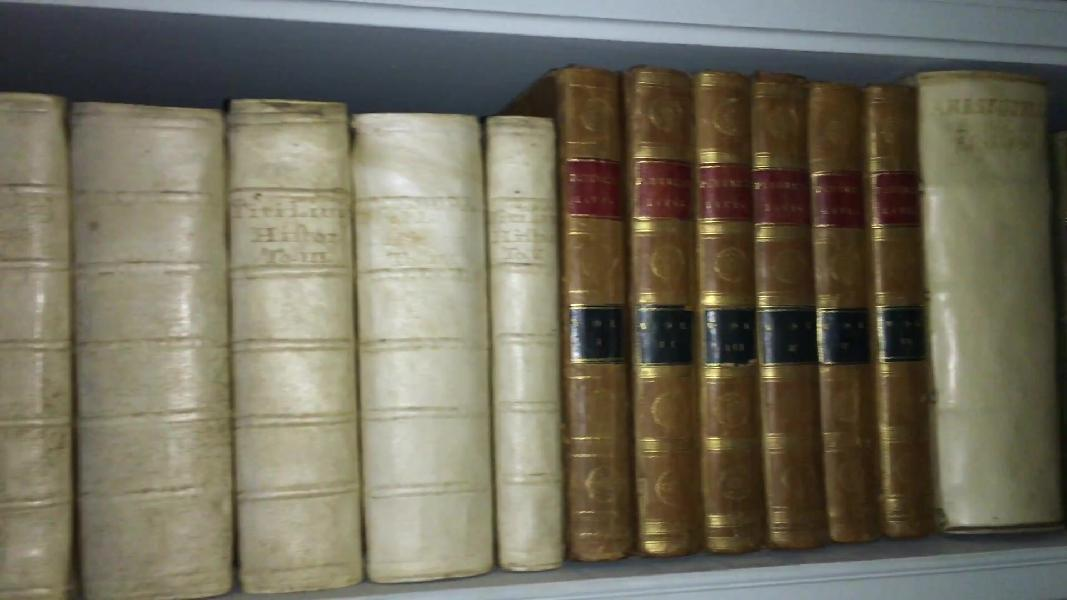Kk4-14: (906, 59, 1067, 539)
Kk4-3_7: (1, 61, 575, 600)
Kk4-8_13: (544, 54, 948, 571)
